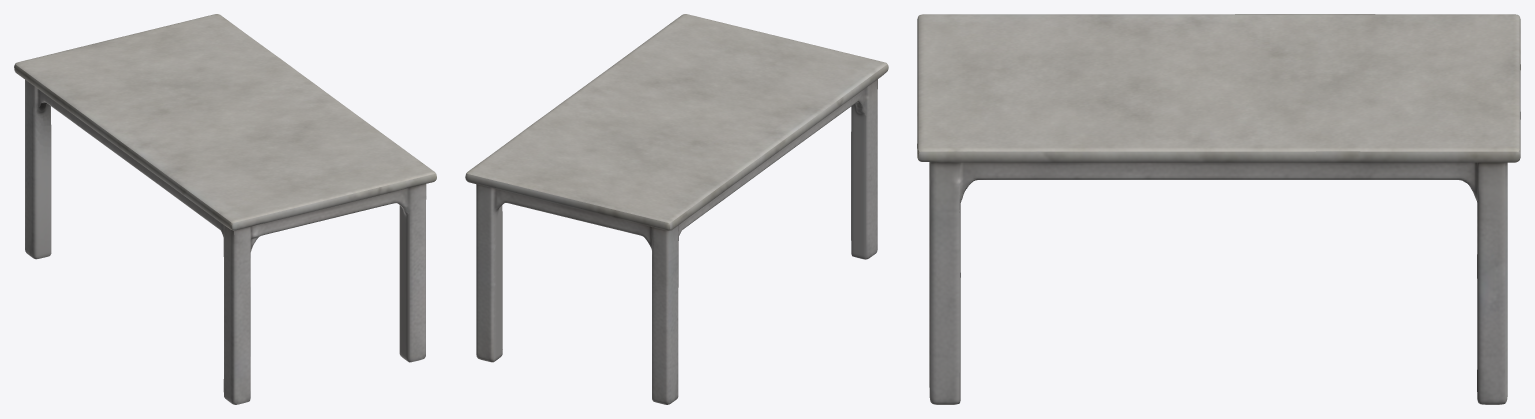
The model's file is steeltable.fbx.
3 renders of one model, left to right at view 1: azimuth 30°, elevation 25°; view 2: azimuth 150°, elevation 25°; view 3: azimuth 270°, elevation 25°, orthographic. The views are drawn at different scales.
Parts seen in each view (by area): view 1: tmpj1jf0lwl.ply; view 2: tmpj1jf0lwl.ply; view 3: tmpj1jf0lwl.ply.
Part boxes in pixels (x1=…): tmpj1jf0lwl.ply: x1=14, y1=14, x2=436, y2=404; tmpj1jf0lwl.ply: x1=465, y1=14, x2=888, y2=404; tmpj1jf0lwl.ply: x1=917, y1=14, x2=1520, y2=404.
Size of the model in its own units: 53.62 by 47.18 by 98.88.
1 material, 1 textured.
